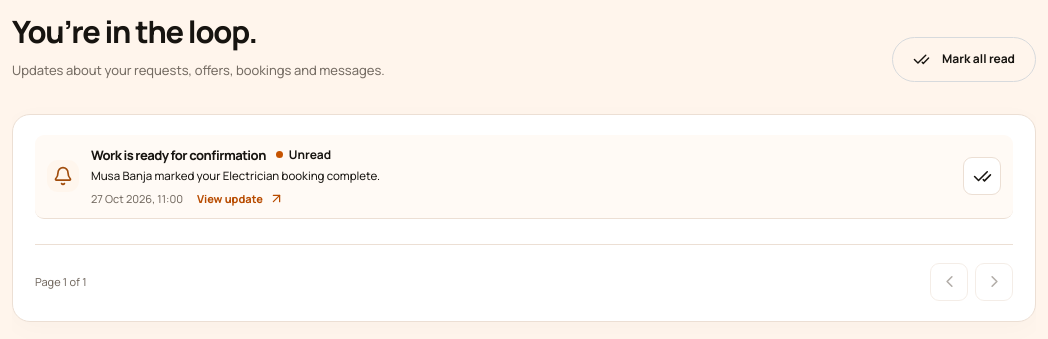
Test: renders readable notification copy and an explicit unread marker that disappears after marking read
Expected: the text "Musa Banja marked your Electrician booking complete." is shown, [91,168,380,183]
Expected: the text "Unread" is shown, [276,145,331,165]
Step 1. Click the button named "Mark notification read" → (982, 176), box [963,158,1001,196]
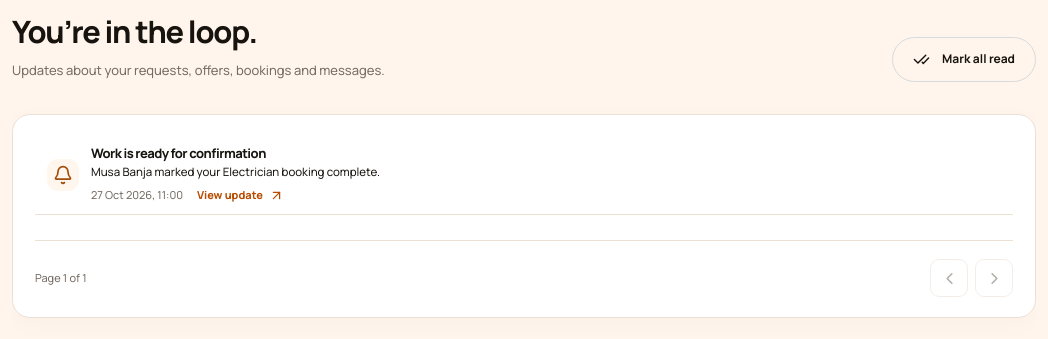
Expected: the text "Unread" is gone
